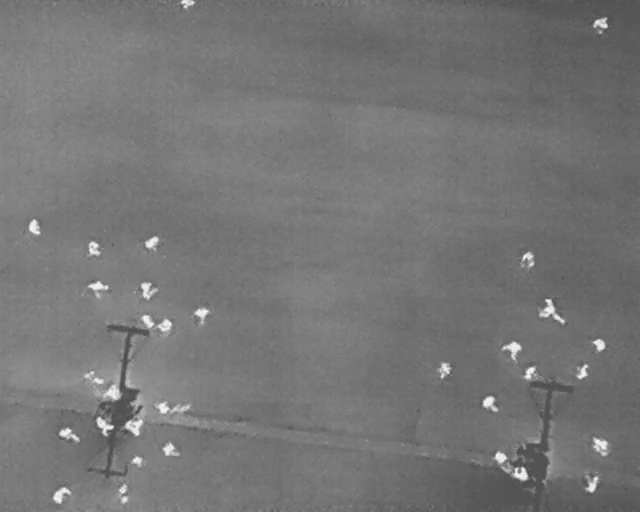Person: (538, 298, 566, 324), (55, 423, 84, 446), (91, 413, 114, 436), (500, 340, 522, 361), (84, 367, 106, 385), (481, 393, 500, 413), (592, 436, 610, 457), (87, 281, 110, 297), (53, 486, 73, 503), (520, 250, 535, 272), (192, 307, 211, 324), (140, 282, 157, 299), (593, 16, 609, 34), (103, 383, 119, 401), (585, 472, 598, 494), (125, 420, 144, 435), (117, 484, 131, 504), (162, 442, 180, 457), (86, 241, 102, 257), (139, 312, 155, 328), (28, 218, 42, 235), (515, 463, 529, 480), (439, 361, 451, 380), (157, 318, 173, 332), (576, 363, 589, 380), (145, 236, 159, 251), (523, 365, 536, 380), (155, 401, 169, 414), (592, 338, 605, 351), (130, 456, 145, 467), (495, 450, 507, 463), (179, 0, 196, 9), (503, 462, 514, 474)
